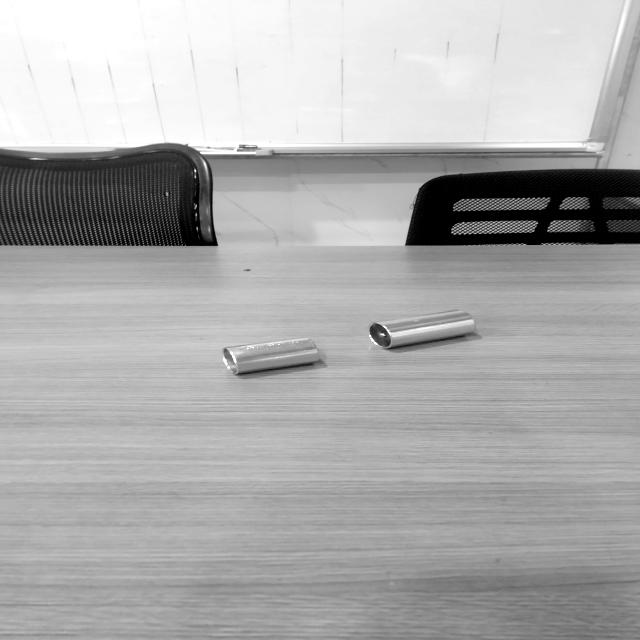Co_Lon: (368, 306, 477, 352)
Co_Nho: (222, 335, 321, 376)
